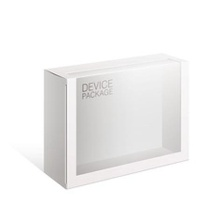plastic_box: (35, 46, 195, 194)
